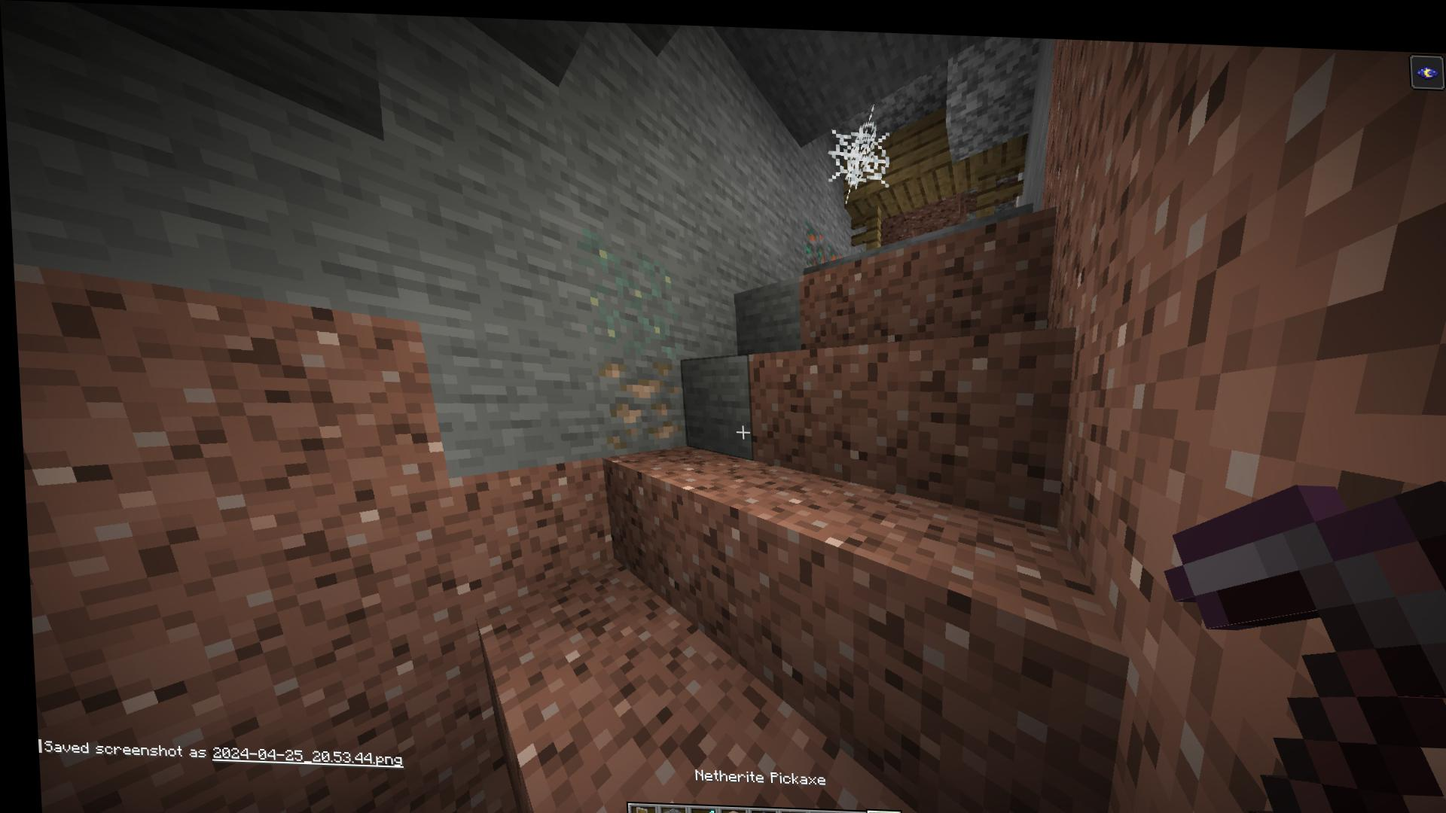iron ore: (597, 349, 682, 448)
